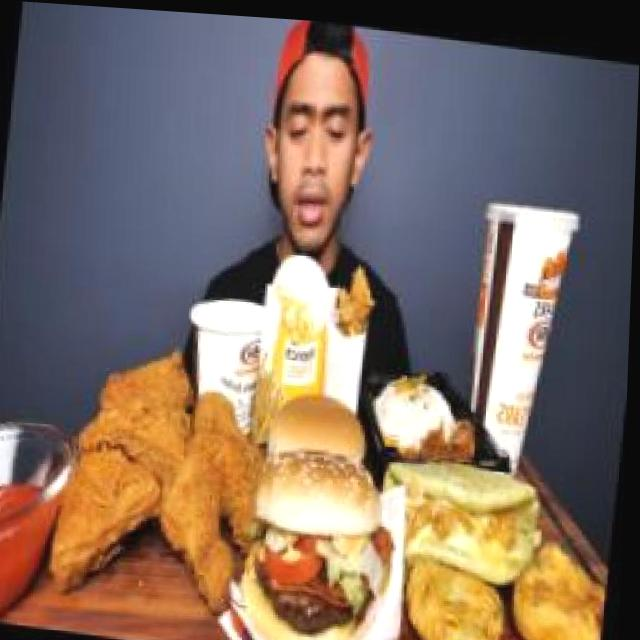AW cola: (442, 172, 584, 474)
black pepper rice bowl: (352, 354, 500, 487)
cheese burger: (267, 378, 384, 477)
chicken waffle: (312, 255, 386, 392)
crispy corn: (175, 270, 277, 443)
french fries: (258, 252, 341, 376)
fried chicken: (42, 321, 281, 623)
mango chicken pocket: (374, 435, 561, 583)
mozza burger: (219, 427, 406, 640)
perkedel: (393, 534, 525, 640), (510, 518, 617, 640)
